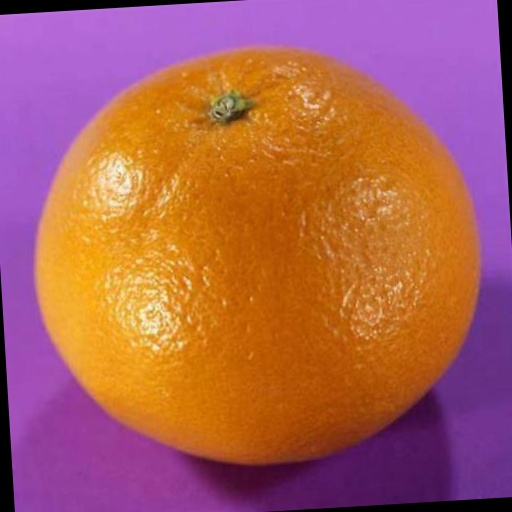fruit: (441, 125, 512, 473)
